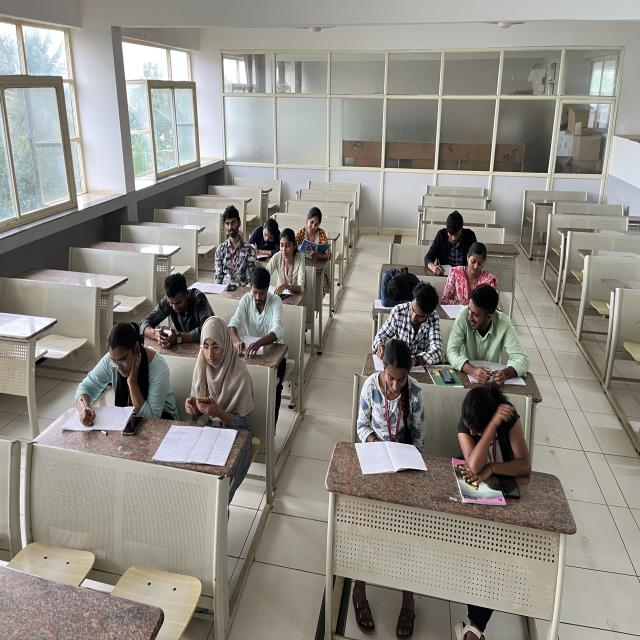Reading: (361, 342, 431, 468), (445, 244, 503, 324), (234, 272, 275, 357), (270, 230, 306, 299), (296, 206, 332, 262)
Using Phone: (183, 310, 252, 426), (143, 275, 206, 348)
Writing: (64, 319, 158, 422), (364, 288, 446, 372), (422, 209, 482, 277), (249, 212, 285, 260)
